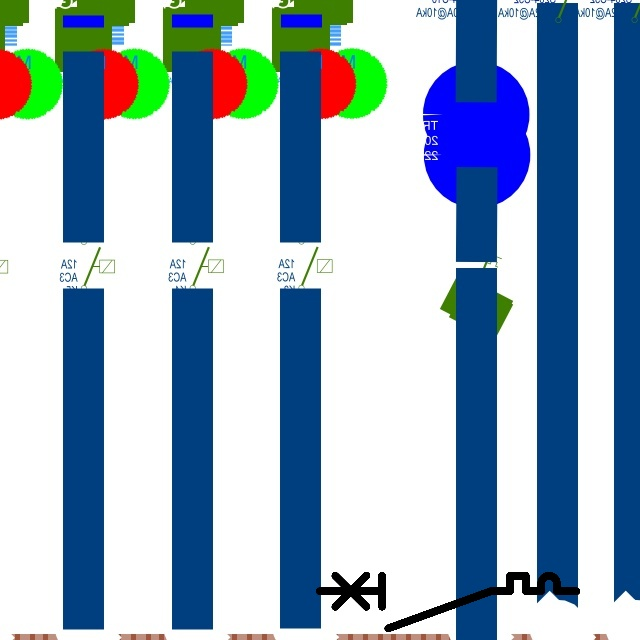interruptor_termomagnetico: (313, 569, 583, 635)
